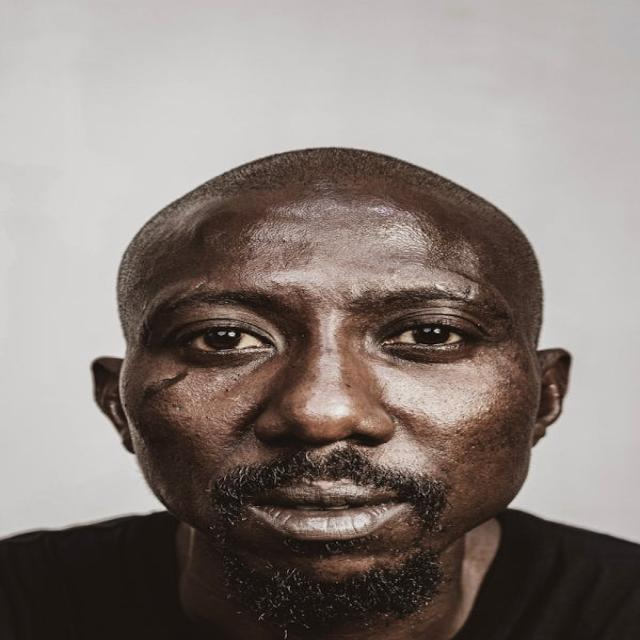no_mask: (111, 198, 610, 586)
